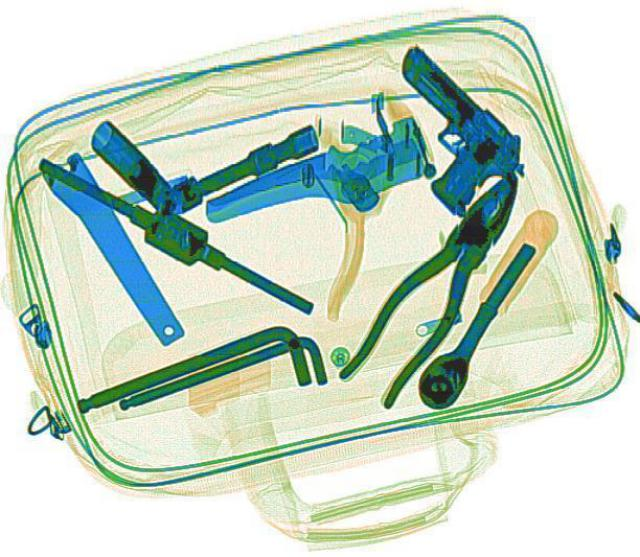Gun: (325, 43, 547, 221)
Pliers: (322, 158, 554, 411)
